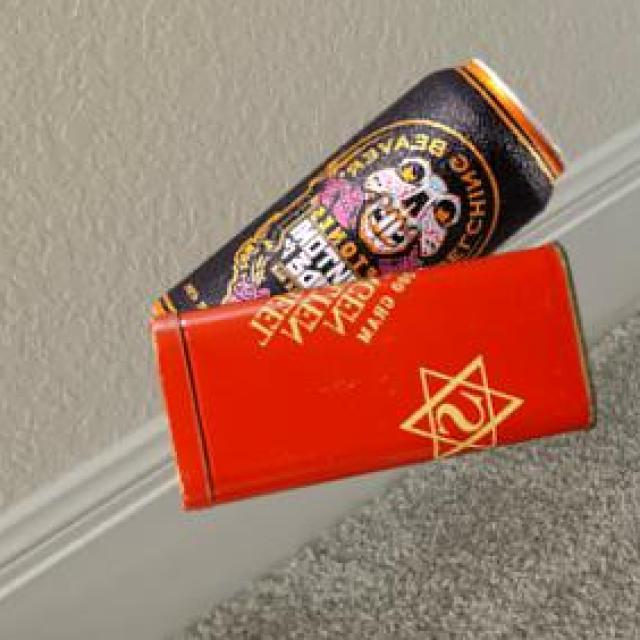logam: (153, 239, 600, 507), (155, 56, 571, 314)
